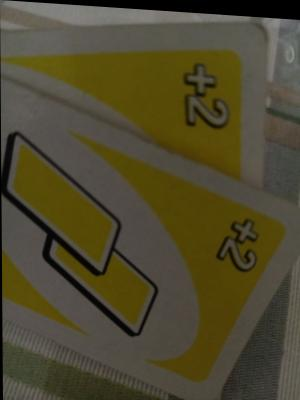-2: (170, 54, 239, 156), (214, 206, 266, 299)
yellow: (1, 125, 175, 344)
